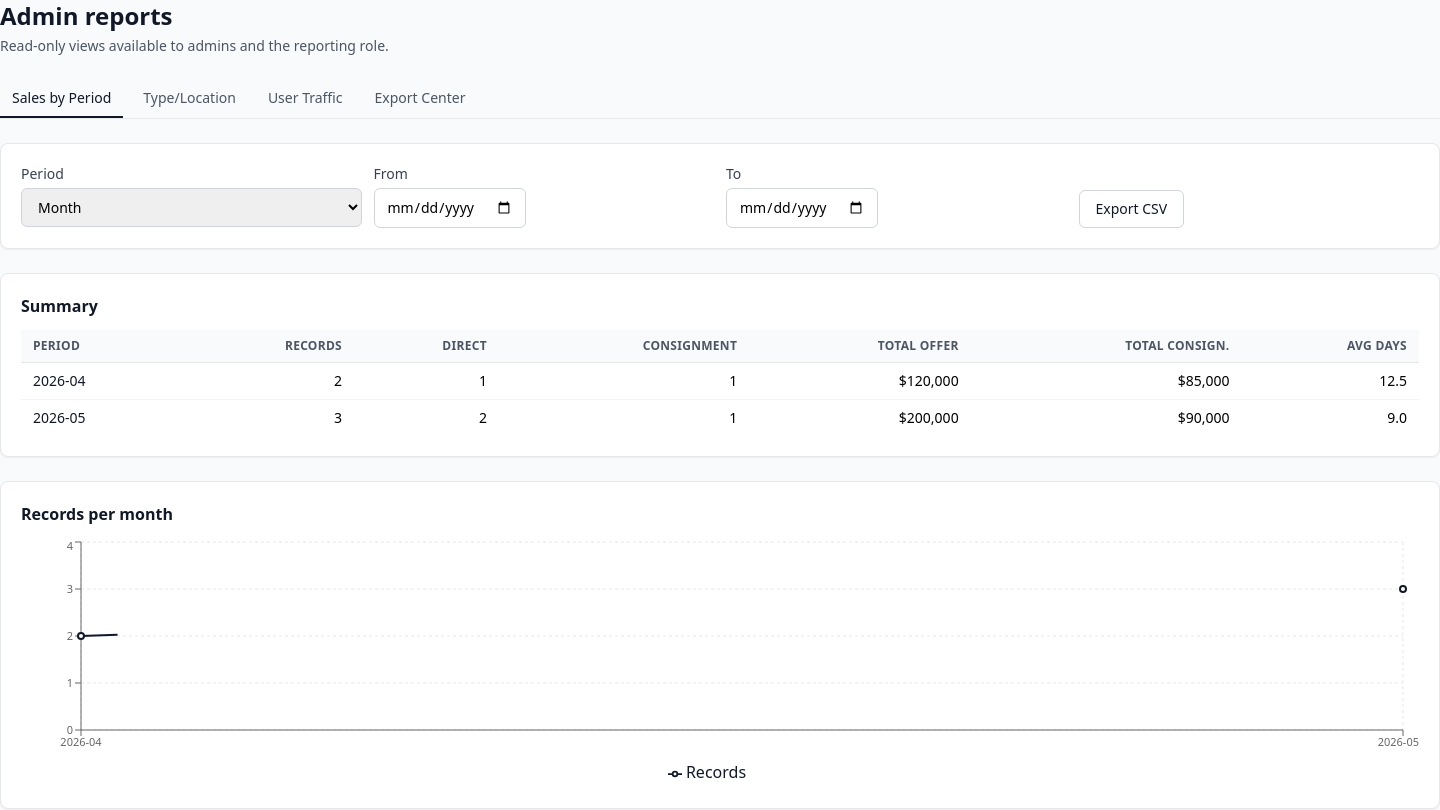
AdminReportsPage › switching to User Traffic tab renders metric cards
The width and height of the screenshot is (1440, 810).
Click the tab "User Traffic" at [305, 99], box 256,80 -> 355,118
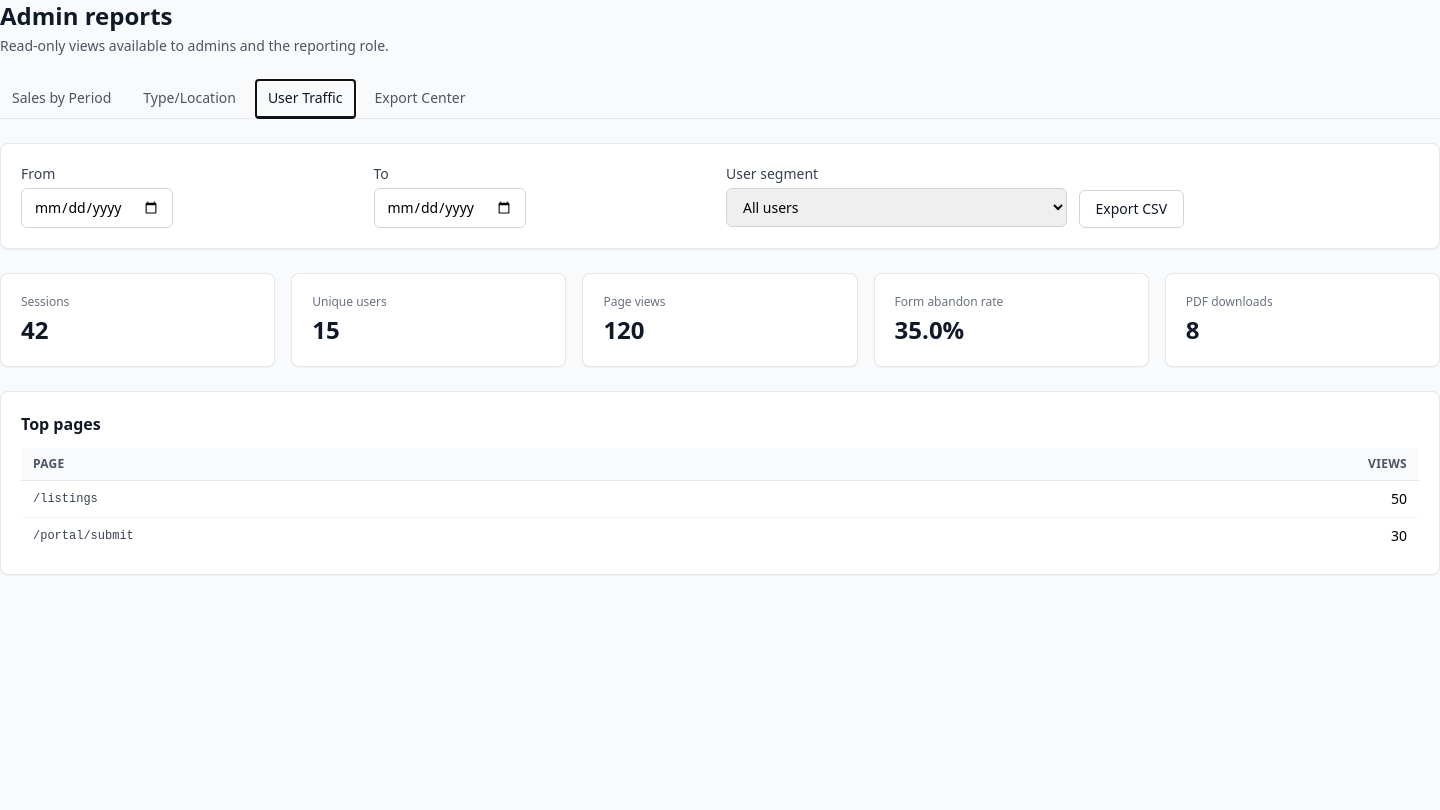
Result: the text "Sessions" is shown at 21,293 -> 69,310
Result: the text "42" is shown at 21,313 -> 48,346
Result: the text "35.0%" is shown at 895,313 -> 964,346
